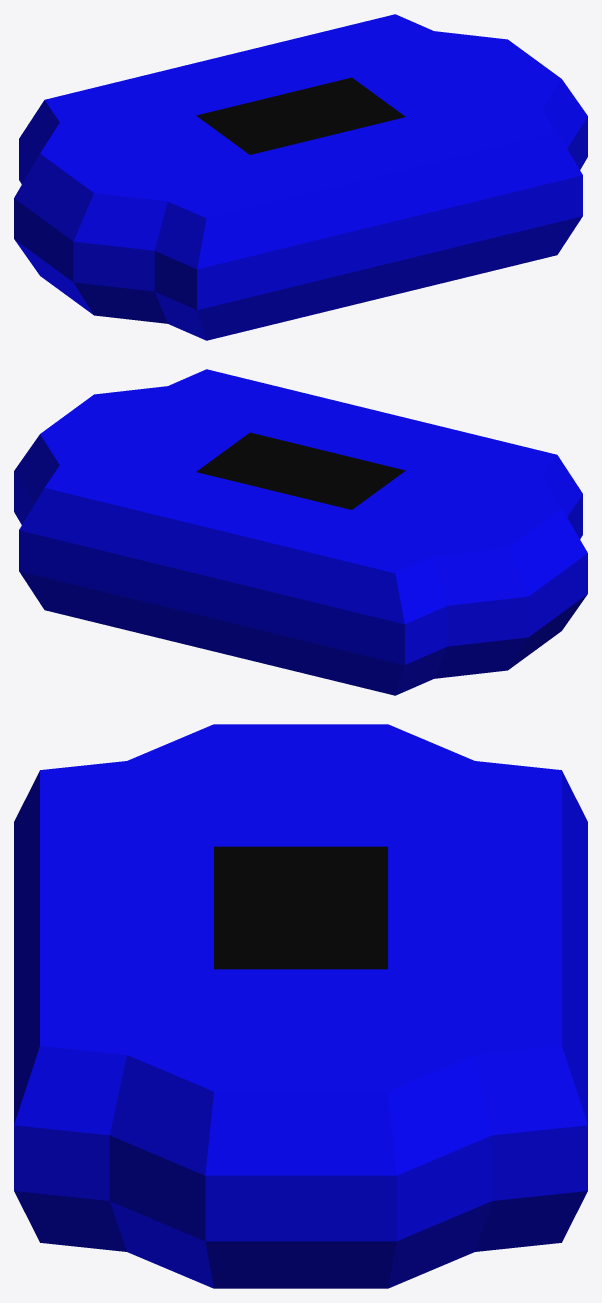
The model's file is Nota_Azul.fbx.
3 views of the same model, one above another, from view 1: azimuth 30°, elevation 25°; view 2: azimuth 150°, elevation 25°; view 3: azimuth 270°, elevation 25° (orthographic). The views are drawn at different scales.
Parts seen in each view (by area): view 1: Nota_Azul; view 2: Nota_Azul; view 3: Nota_Azul.
Part boxes in pixels (x1=…): Nota_Azul: x1=14, y1=14, x2=587, y2=340; Nota_Azul: x1=14, y1=369, x2=587, y2=695; Nota_Azul: x1=14, y1=724, x2=587, y2=1288.
Size of the model in its own units: 2.2 by 0.5 by 1.32.
